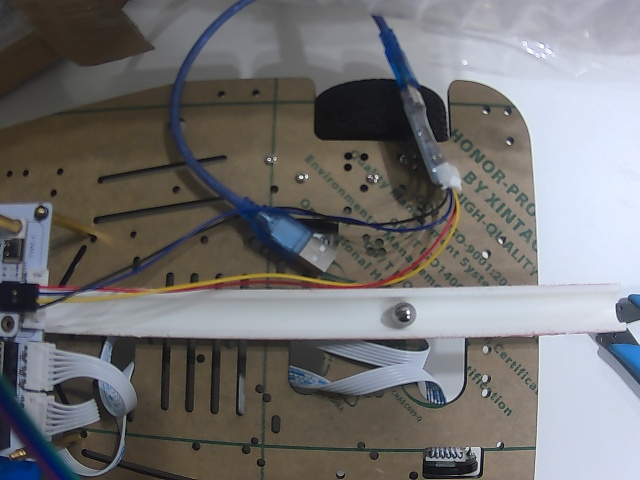steelball: (392, 303, 417, 326)
